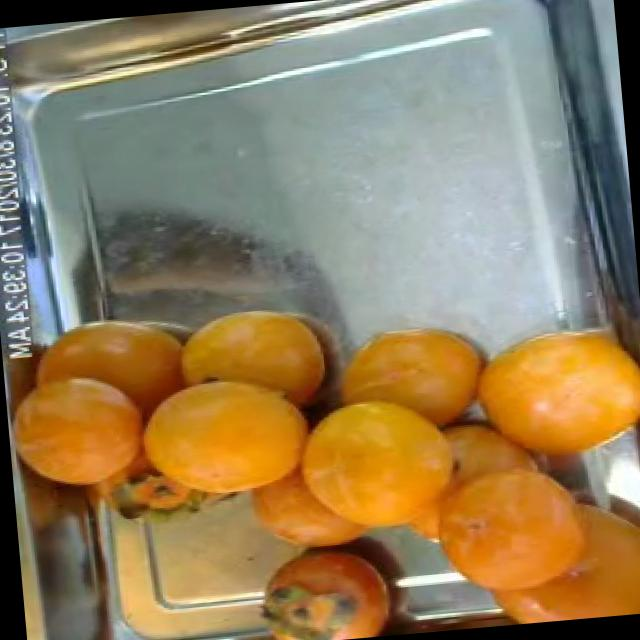Fruit: (84, 195, 291, 352)
